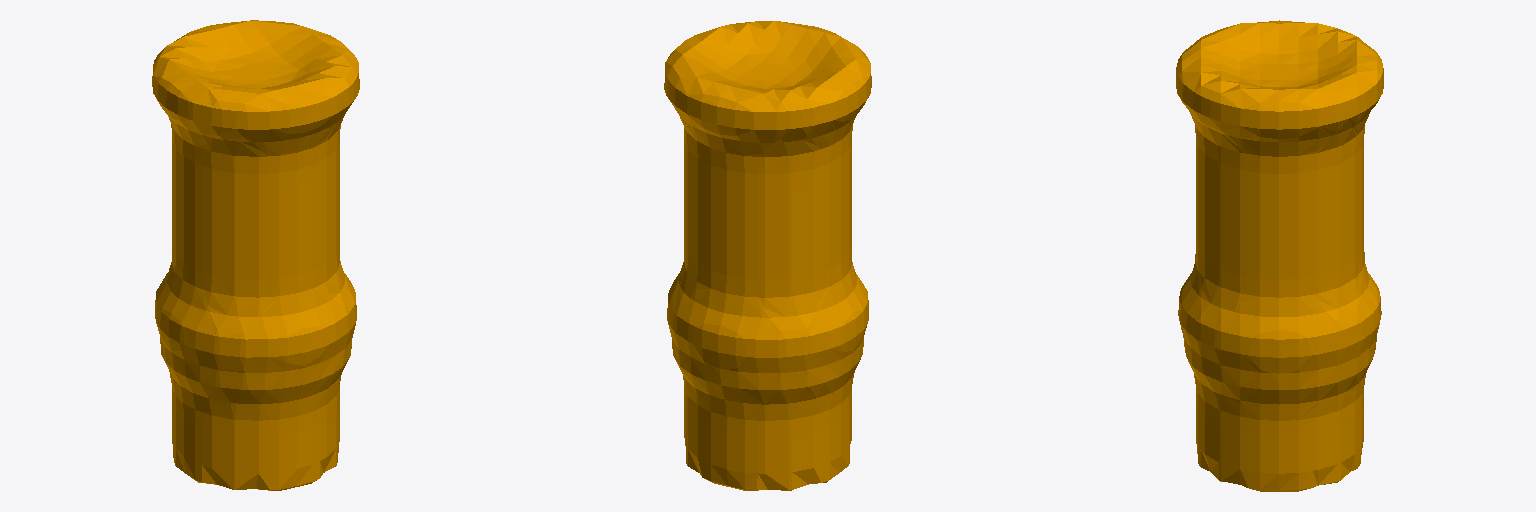
URDF robot description (cylinder_../../meshes/cylinders/cylinder_143.stl):
<?xml version="1.0" encoding="utf-8"?>  <robot name="cylinder_../../meshes/cylinders/cylinder_143.stl">   <link name="cylinder_../../meshes/cylinders/cylinder_143.stl">     <visual>       <geometry>         <mesh filename="../meshes/cylinders/cylinder_143.stl" scale="1 1 1"/>       </geometry>     </visual>     <collision>       <geometry>         <mesh filename="../meshes/cylinders/cylinder_143.stl" scale="1 1 1"/>       </geometry>     </collision>     <inertial>        <origin         xyz="0 0 0"         rpy="0 0 0" />       <mass value="0.18411684938112396"/>       <origin rpy="0 0 0" xyz="0 0 0"/>       <inertia ixx="0.00022065451079591414" ixy="-1.4211671079558577e-08" ixz="-1.8902909115551554e-08" iyy="0.00022065565104908478" iyz="-1.1302860652040977e-08" izz="4.9778835061559794e-05"/>     </inertial>   </link>  </robot>

--- Facts derived from the render (not from the file) ---
Views: 3 orthographic renders of the robot side by side, from view 1: azimuth 30°, elevation 25°; view 2: azimuth 150°, elevation 25°; view 3: azimuth 270°, elevation 25°.
Robot: cylinder_../../meshes/cylinders/cylinder_143.stl — 1 links, 0 joints (none); root link cylinder_../../meshes/cylinders/cylinder_143.stl; default pose: every joint at zero.
Visible links, largest first — view 1: cylinder_../../meshes/cylinders/cylinder_143.stl; view 2: cylinder_../../meshes/cylinders/cylinder_143.stl; view 3: cylinder_../../meshes/cylinders/cylinder_143.stl.
Link boxes in pixels (box(x1,y1,x2,y2)): cylinder_../../meshes/cylinders/cylinder_143.stl: box(152, 20, 359, 490); cylinder_../../meshes/cylinders/cylinder_143.stl: box(664, 21, 871, 490); cylinder_../../meshes/cylinders/cylinder_143.stl: box(1176, 20, 1383, 491).
Size in the robot's own frame: 0.0536 by 0.0536 by 0.1142 metres.
Meshes: 1 distinct files referenced, 1 mesh visuals loaded (1 binary STL).